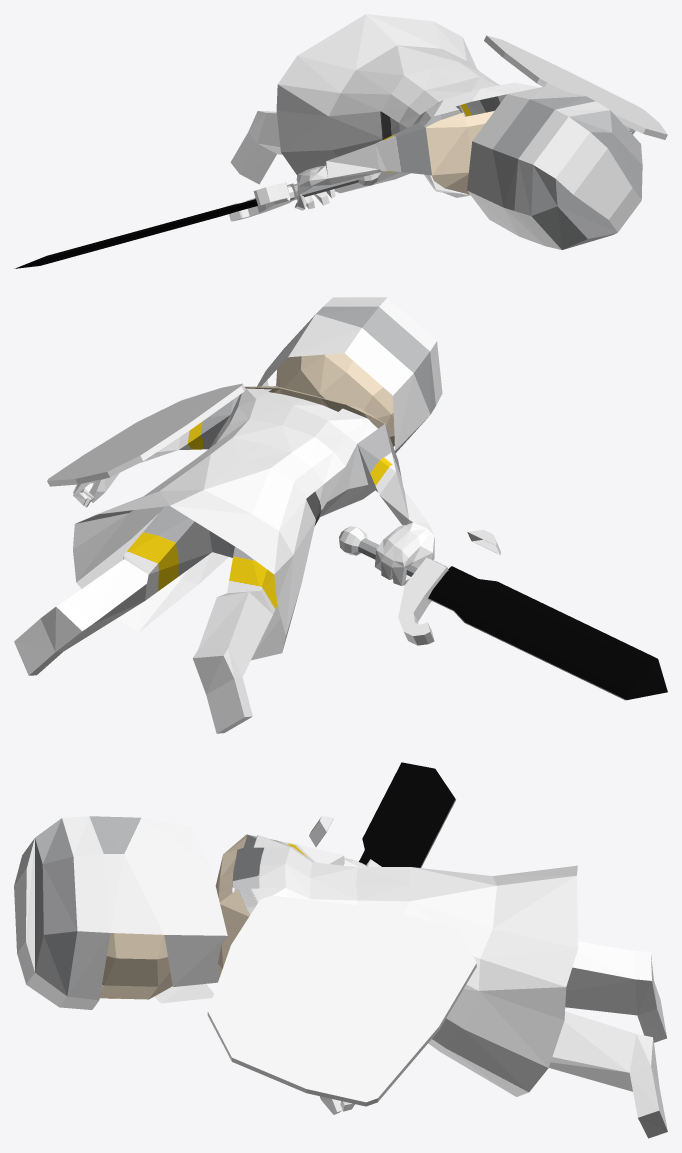
File: knight_hurt.obj
3 views of the same model, one above another, from view 1: azimuth 30°, elevation 25°; view 2: azimuth 150°, elevation 25°; view 3: azimuth 270°, elevation 25° (orthographic). The views are drawn at different scales.
Parts seen in each view (by area): view 1: knight; view 2: knight; view 3: knight.
Part boxes in pixels (bbox=[...]): knight: bbox=[14, 14, 667, 268]; knight: bbox=[14, 297, 667, 733]; knight: bbox=[14, 762, 667, 1138].
Bounding box in the file's own units: 11.82 × 4.07 × 8.74.
